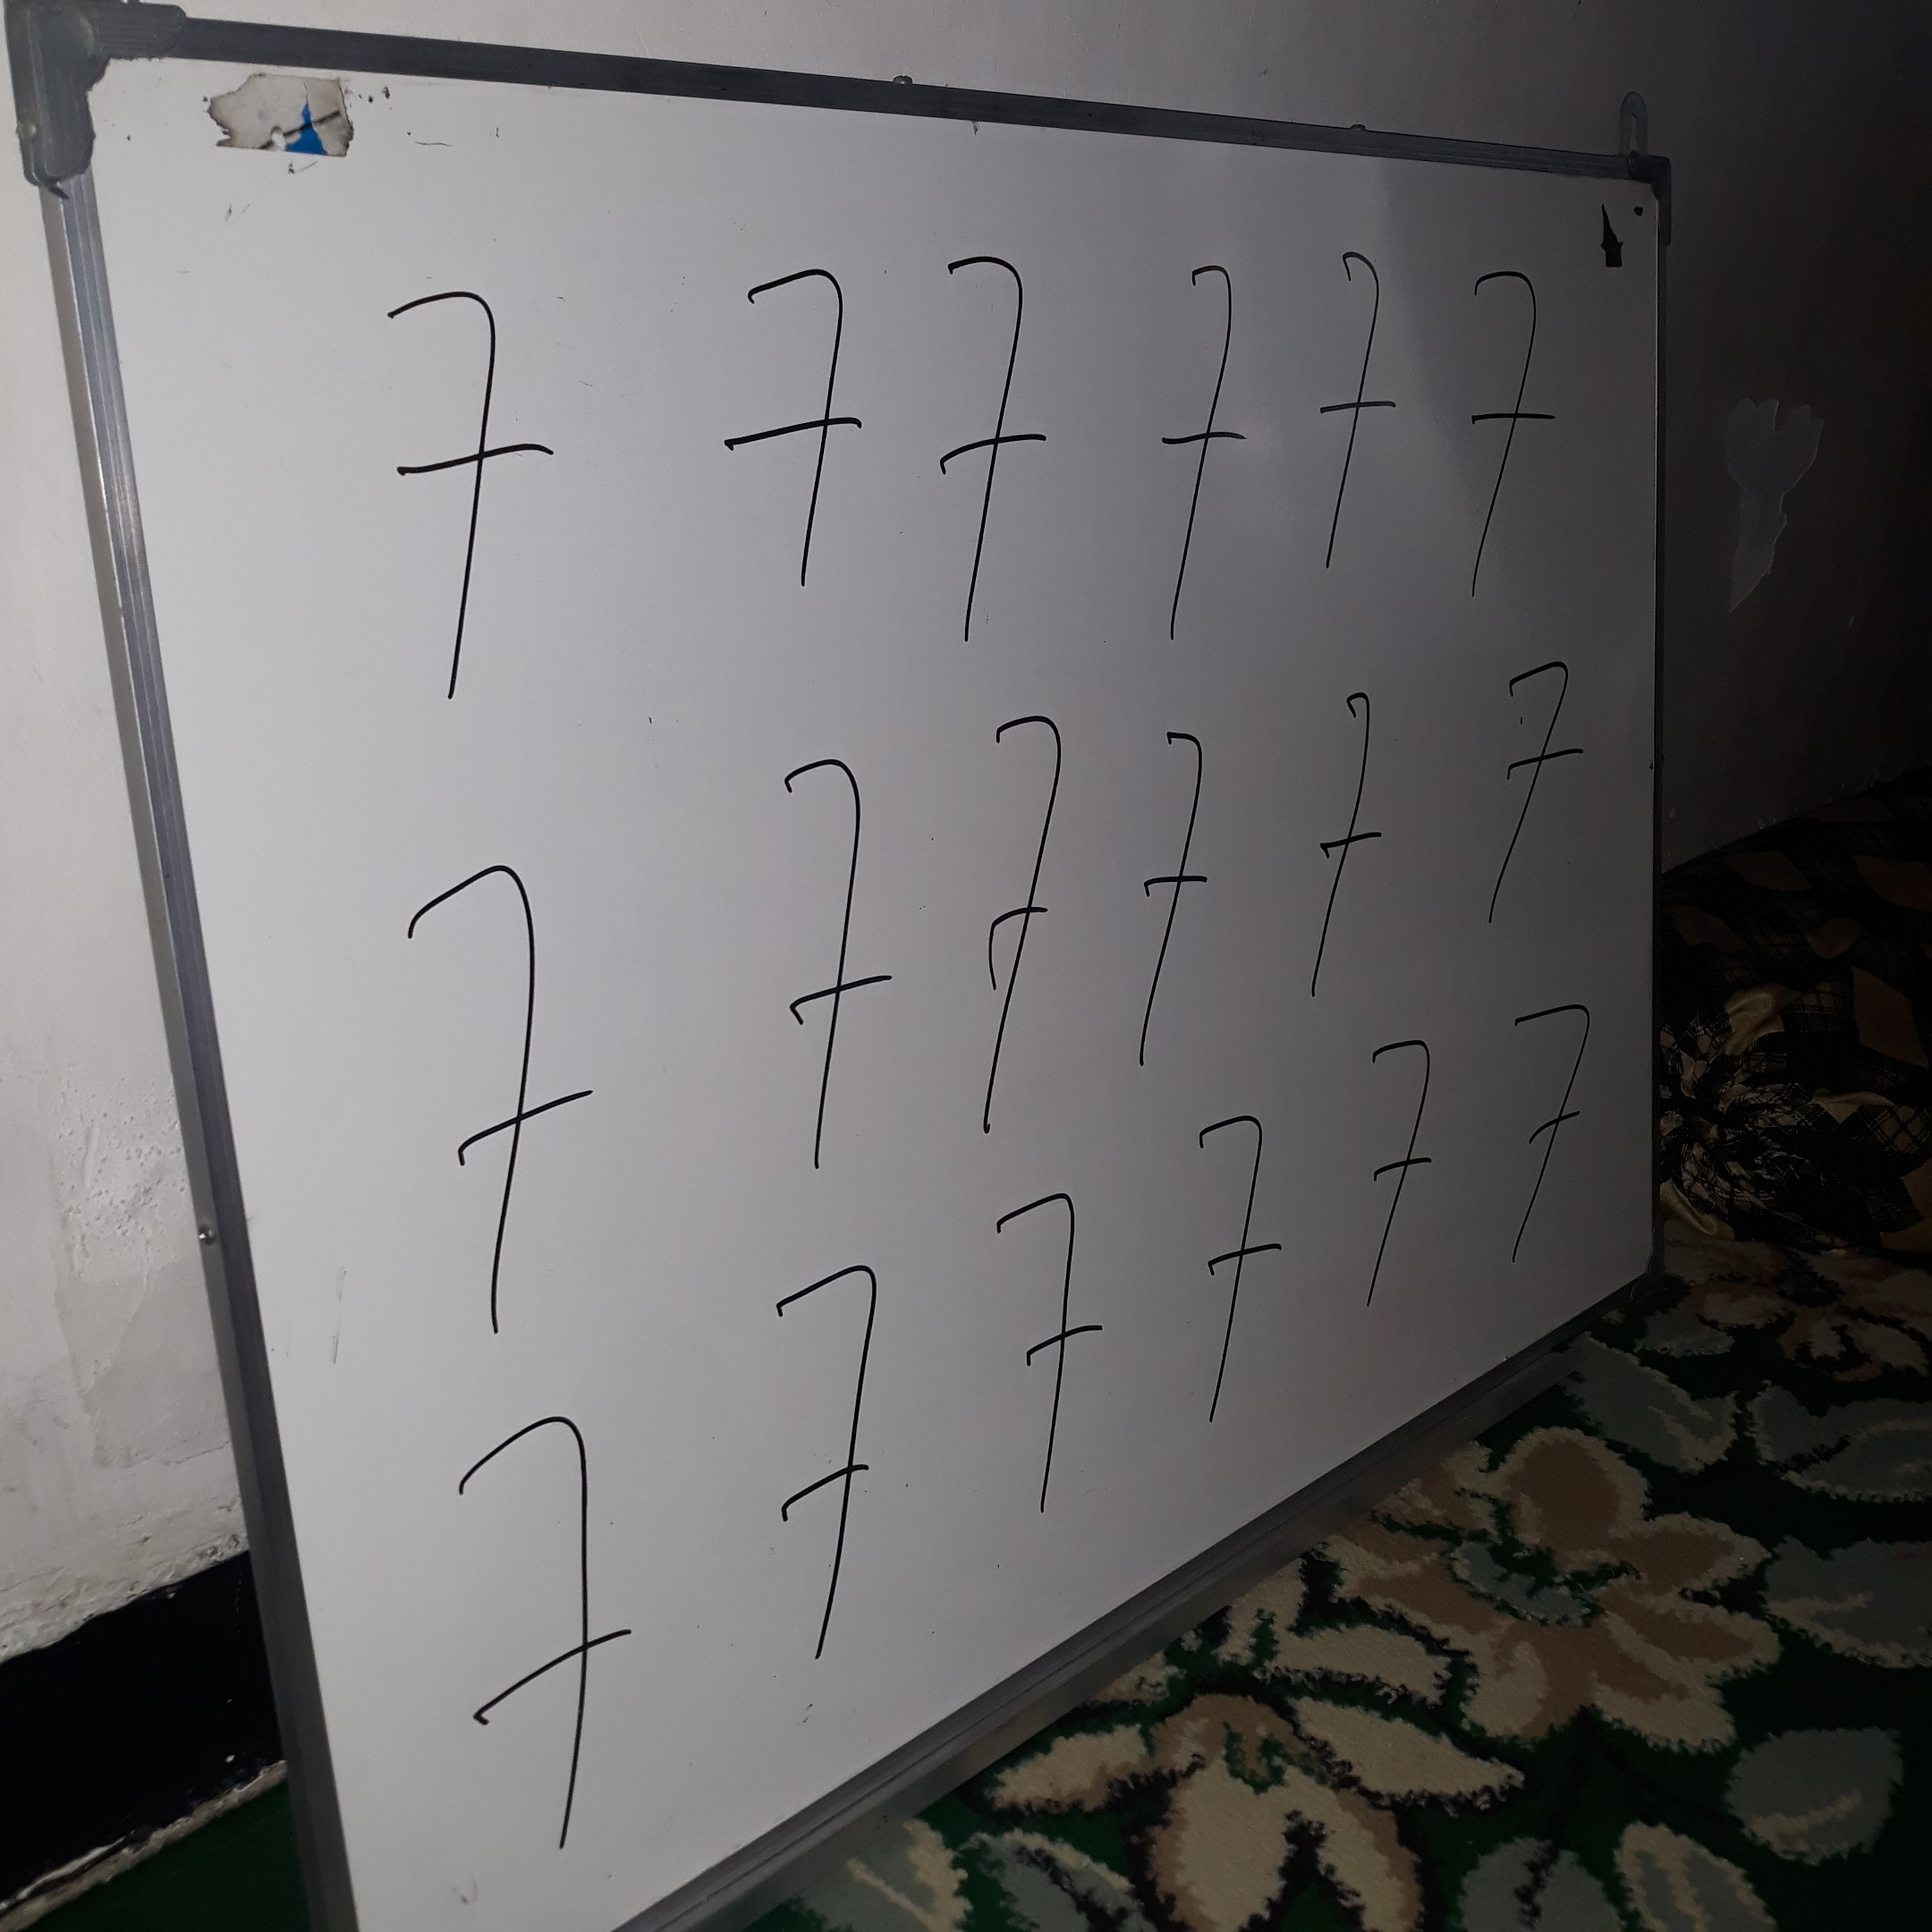num7: (380, 1402, 681, 1870), (382, 858, 623, 1368), (360, 271, 589, 722), (724, 1248, 923, 1673), (949, 703, 1113, 1158), (744, 754, 913, 1184), (708, 258, 896, 622), (927, 247, 1070, 660), (970, 1191, 1130, 1520), (1137, 249, 1266, 651), (1169, 1104, 1307, 1445), (1448, 254, 1572, 615), (1283, 677, 1415, 1005), (1458, 651, 1605, 947), (1338, 1030, 1469, 1335), (1128, 711, 1226, 1081), (1310, 240, 1405, 591), (1500, 988, 1606, 1275)
